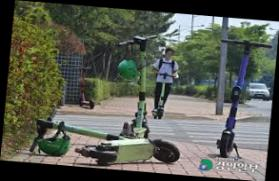nonhelmet: (146, 45, 183, 123)
